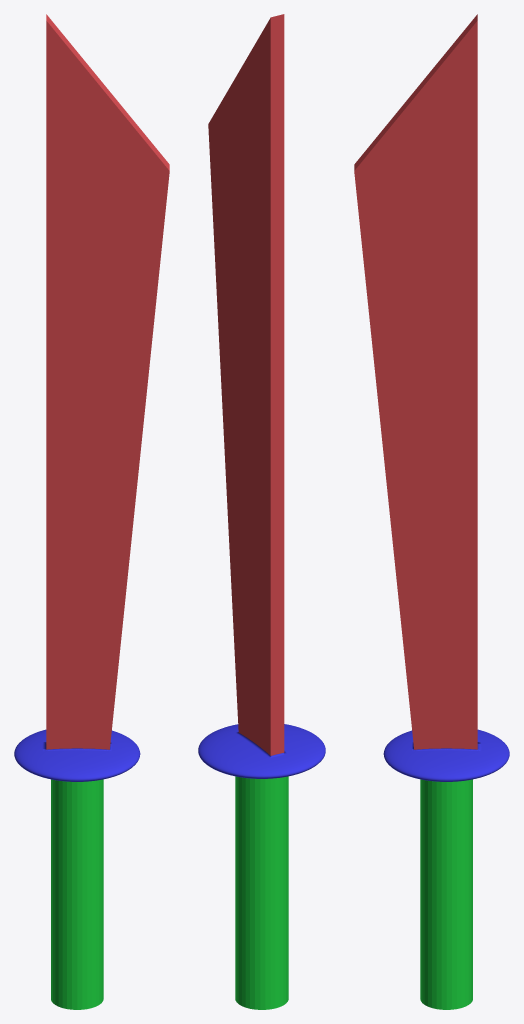
Rendered from Sword 1.fbx.
3 views of the same model, side by side, from view 1: azimuth 90°, elevation 25°; view 2: azimuth 210°, elevation 25°; view 3: azimuth 270°, elevation 25° (orthographic).
Parts seen in each view (by area): view 1: Cube.001; view 2: Cube.001; view 3: Cube.001.
Boxes of the visible parts, x1,y1,x2,y2 form: Cube.001: [14, 14, 169, 1009]; Cube.001: [198, 14, 325, 1009]; Cube.001: [354, 14, 509, 1009].
Size of the model in its own units: 159 by 1368 by 196.
